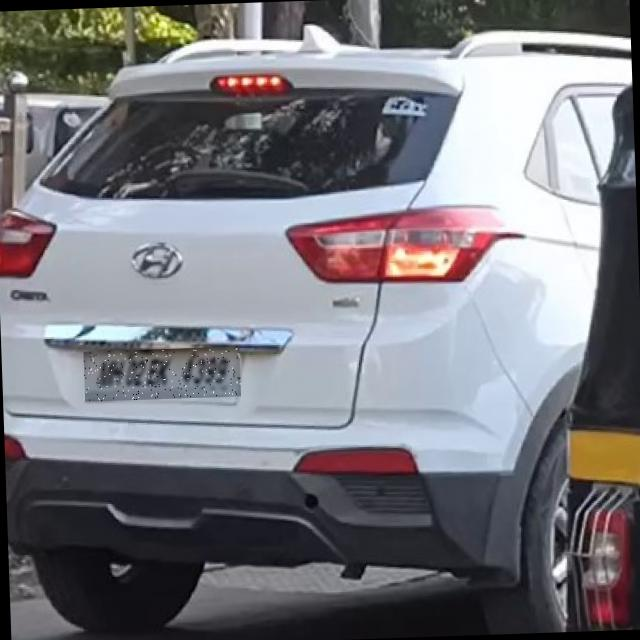Plate: (84, 347, 242, 402)
